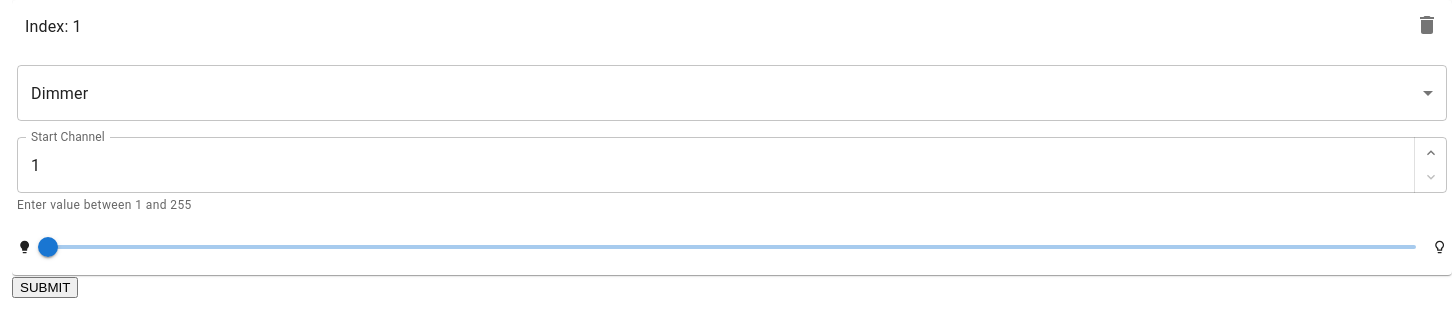
DMXDevice Component › Global config › Can change channel between 1 to 255
Click the field at (716, 165), box [17, 137, 1414, 193]
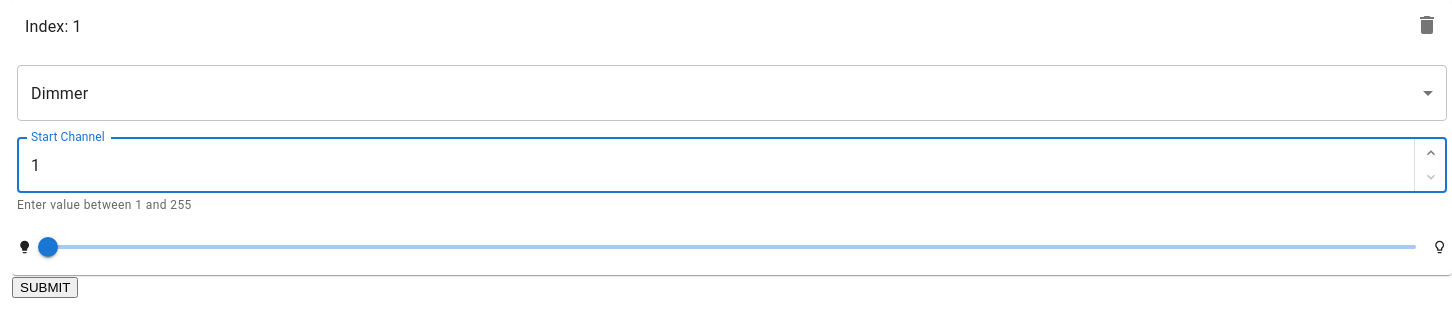
Press Backspace
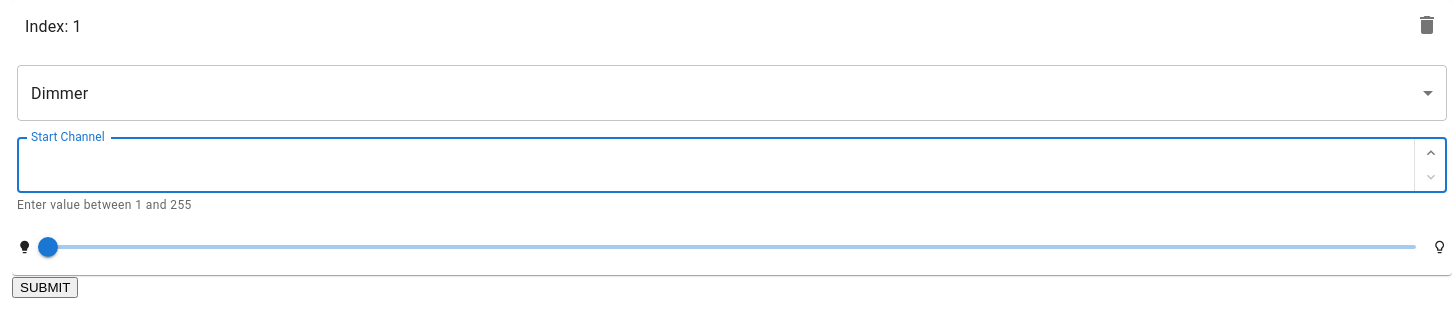
Type "0" into the field at (716, 165), box [17, 137, 1414, 193]
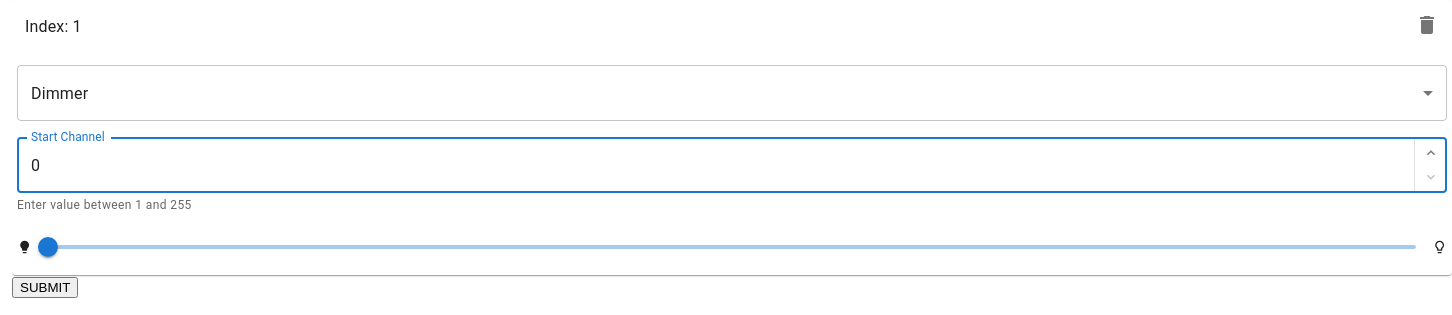
Press Arrowdown
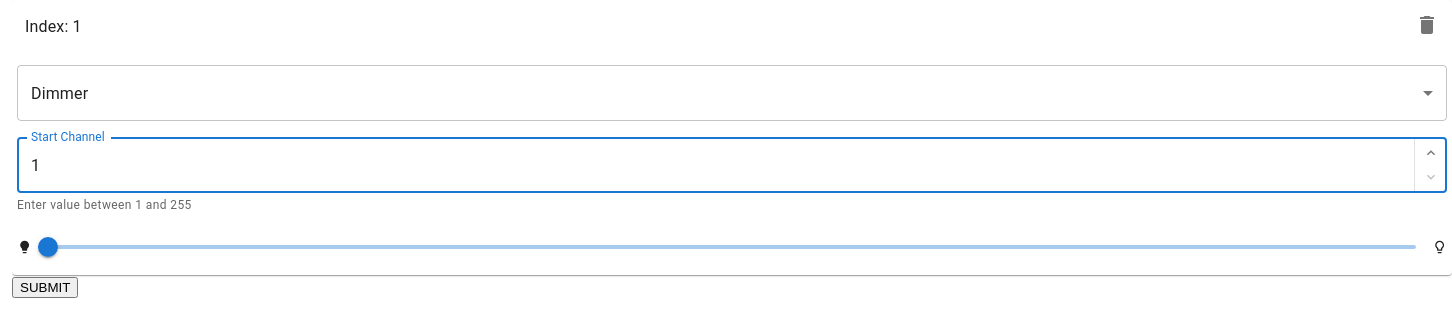
Expected: the field holds "1"
Replace the text in the field with "256" at (716, 165), box [17, 137, 1414, 193]
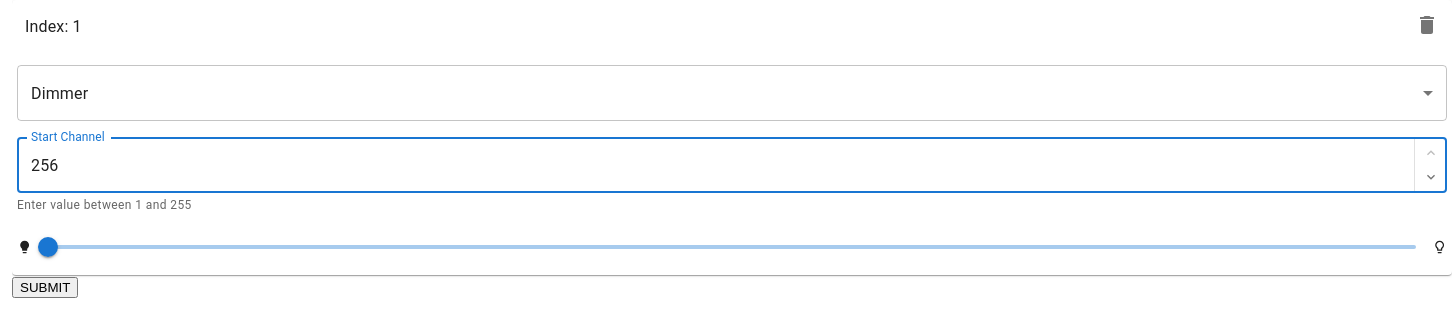
Press Arrowup
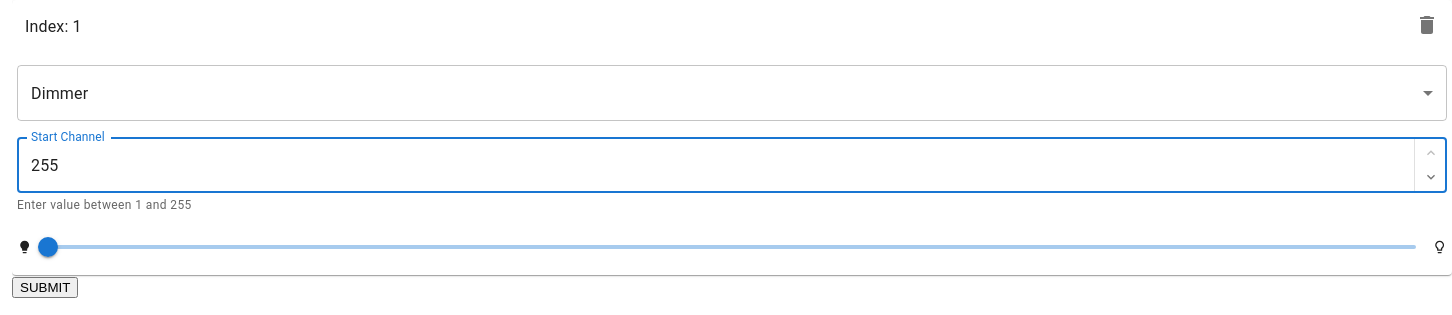
Expected: the field holds "255", [17, 137, 1414, 193]
